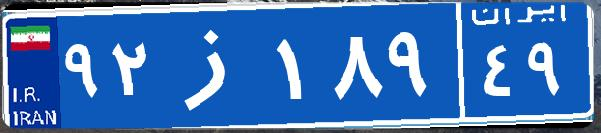1: (273, 28, 330, 110)
2: (110, 28, 158, 105)
4: (475, 38, 525, 113)
8: (330, 28, 385, 110)
9: (385, 28, 445, 110), (57, 26, 110, 107), (525, 38, 570, 115)
ز: (158, 15, 273, 115)
